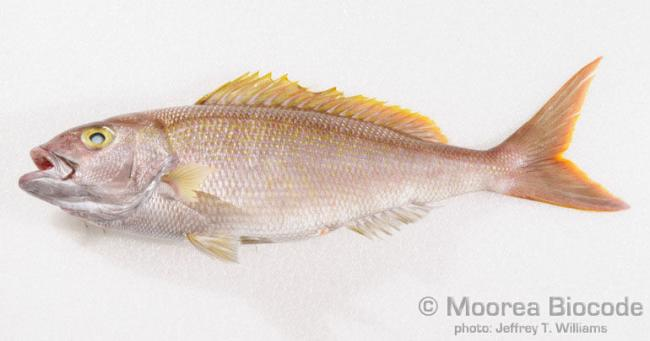fish: (19, 54, 632, 264)
